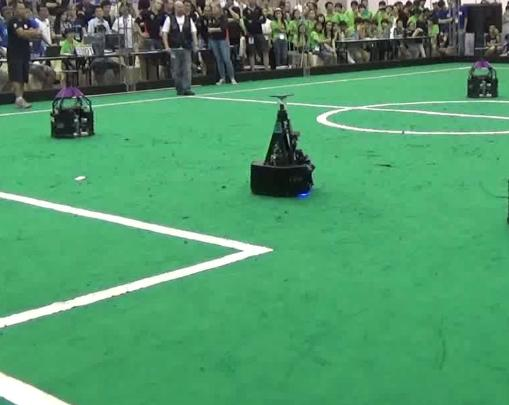robot: (248, 93, 318, 200), (47, 69, 98, 139), (462, 47, 500, 99)
